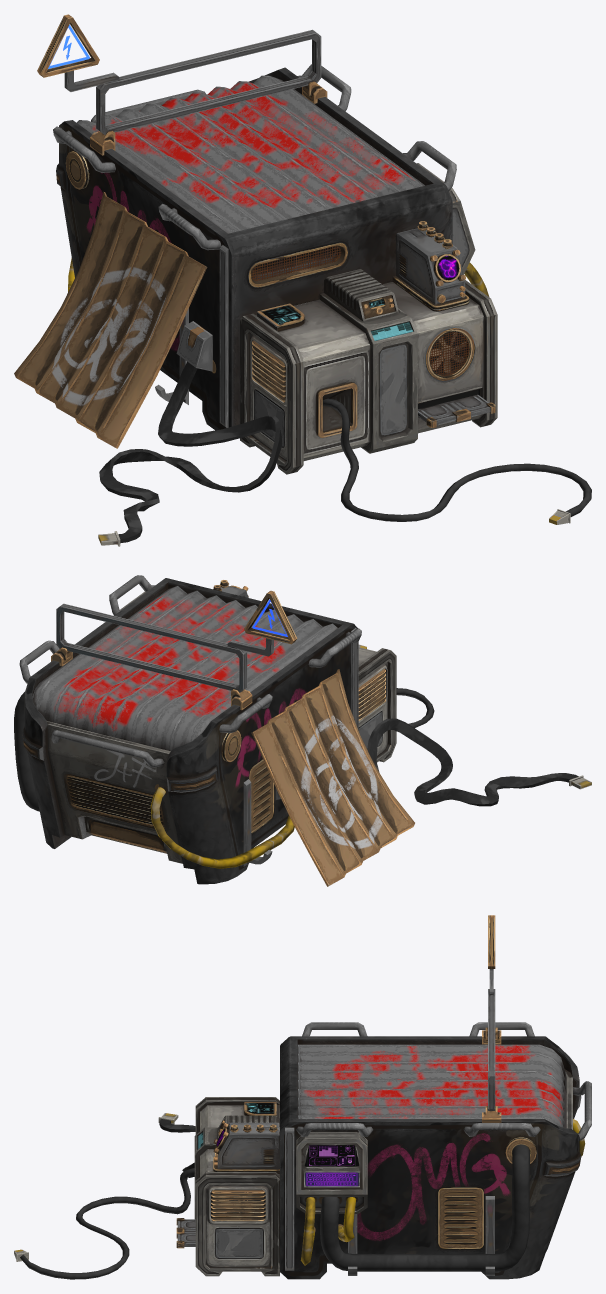
Rendered from Container_PowerGeneratoir.fbx.
The picture shows the model from 3 angles, top to bottom: view 1: azimuth 30°, elevation 25°; view 2: azimuth 150°, elevation 25°; view 3: azimuth 270°, elevation 25°; orthographic projection. The views are drawn at different scales.
Visible parts, largest first — view 1: Container_PowerGeneratoir, Cuble, Wire; view 2: Container_PowerGeneratoir, Cuble; view 3: Container_PowerGeneratoir, Cuble.
Boxes of the visible parts, x1,y1,x2,y2 form: Container_PowerGeneratoir: (14,14,497,474); Cuble: (68,258,591,543); Wire: (48,25,469,375); Container_PowerGeneratoir: (19,575,414,886); Cuble: (14,688,578,868); Container_PowerGeneratoir: (176,915,591,1279); Cuble: (20,1119,585,1279).
Bounding box in the file's own units: 530 × 358 × 700.
3 materials, 3 textured.
